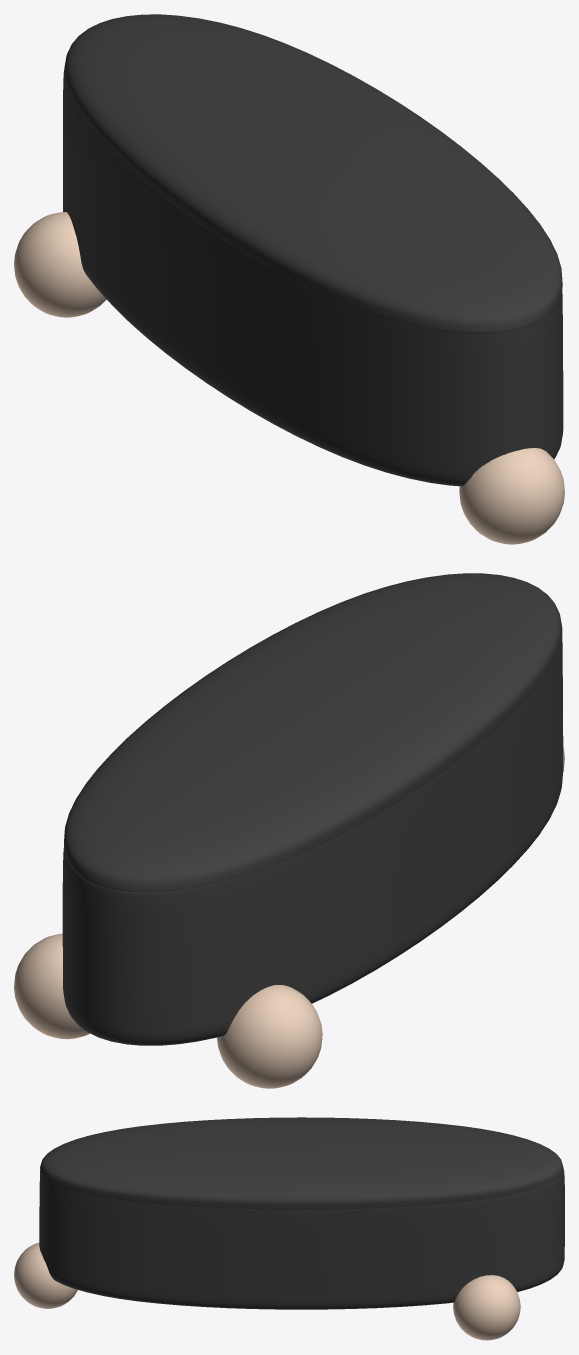
The model's file is boite.glb.
The picture shows the model from 3 angles, top to bottom: view 1: azimuth 30°, elevation 25°; view 2: azimuth 150°, elevation 25°; view 3: azimuth 270°, elevation 25°; orthographic projection. The views are drawn at different scales.
Parts seen in each view (by area): view 1: Cube; view 2: Cube; view 3: Cube.
Boxes of the visible parts, x1,y1,x2,y2 form: Cube: (14, 14, 564, 544); Cube: (14, 573, 564, 1088); Cube: (14, 1117, 564, 1340).
Bounding box in the file's own units: 0.1654 × 0.1326 × 0.4194.
